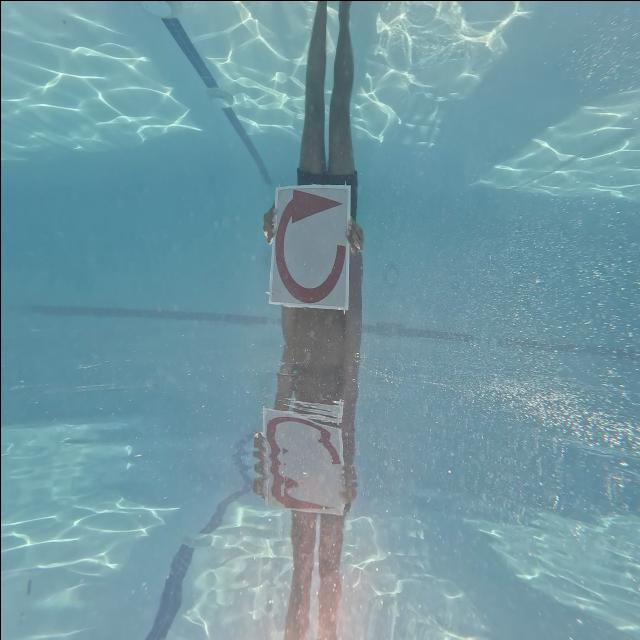red_side: (270, 172, 351, 307)
